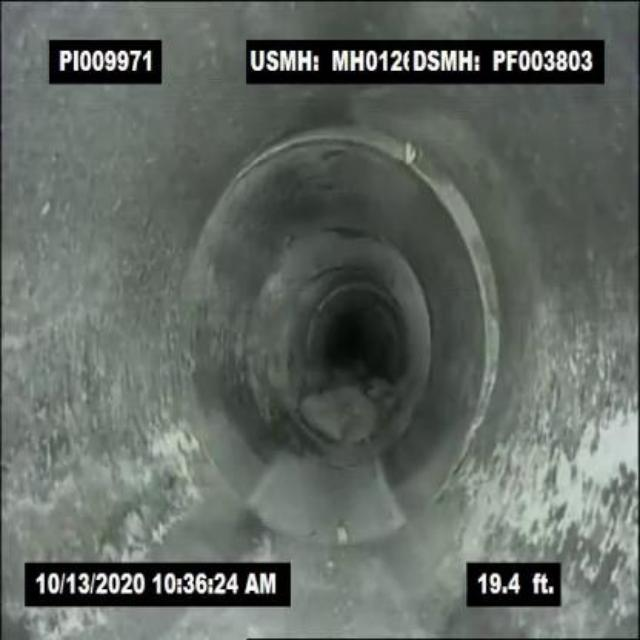Joint offset: (420, 111, 518, 478)
